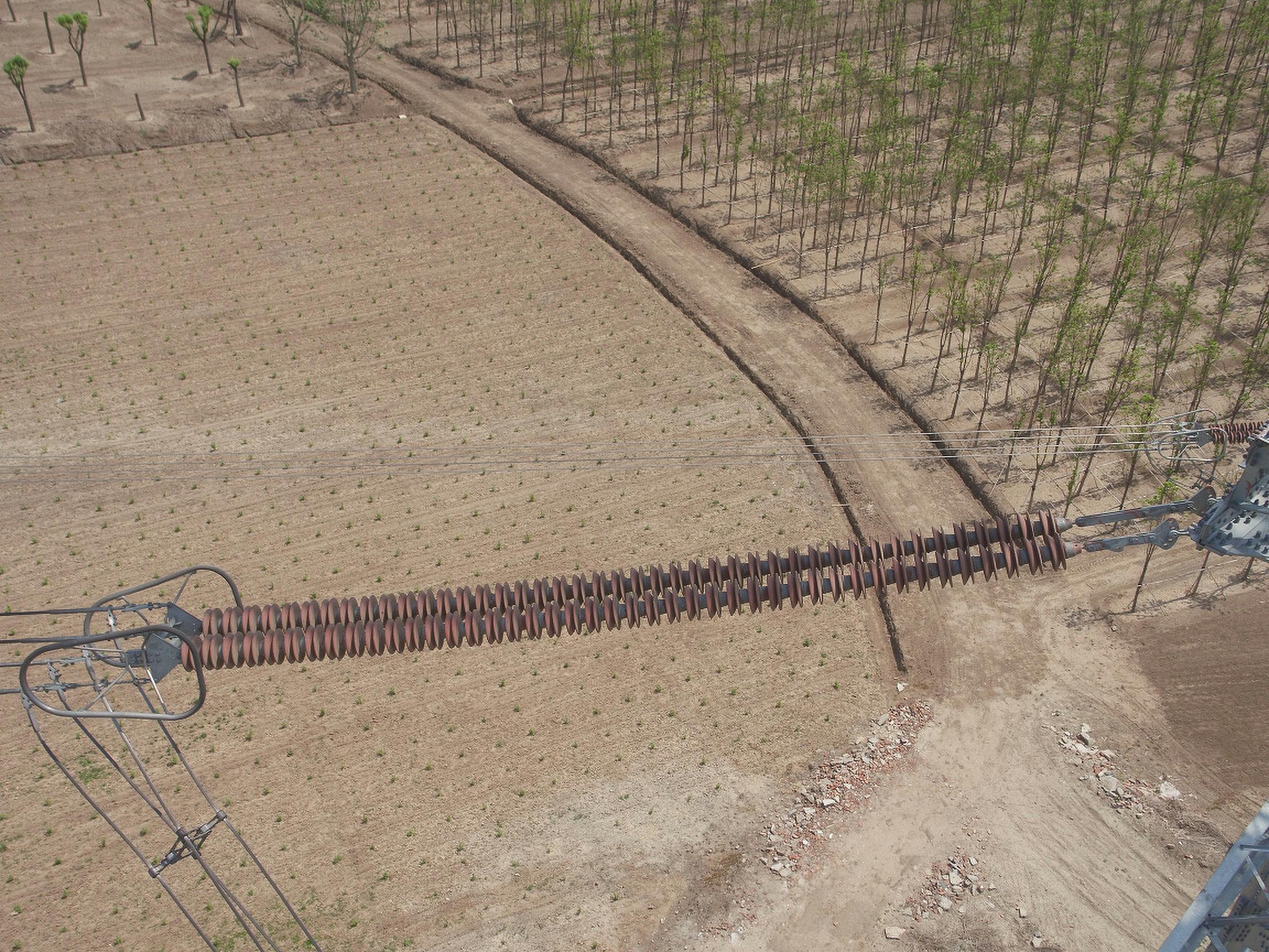insulator: (173, 505, 1075, 674), (1206, 419, 1269, 446)
